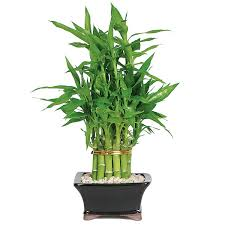bamboo: (31, 6, 201, 174)
